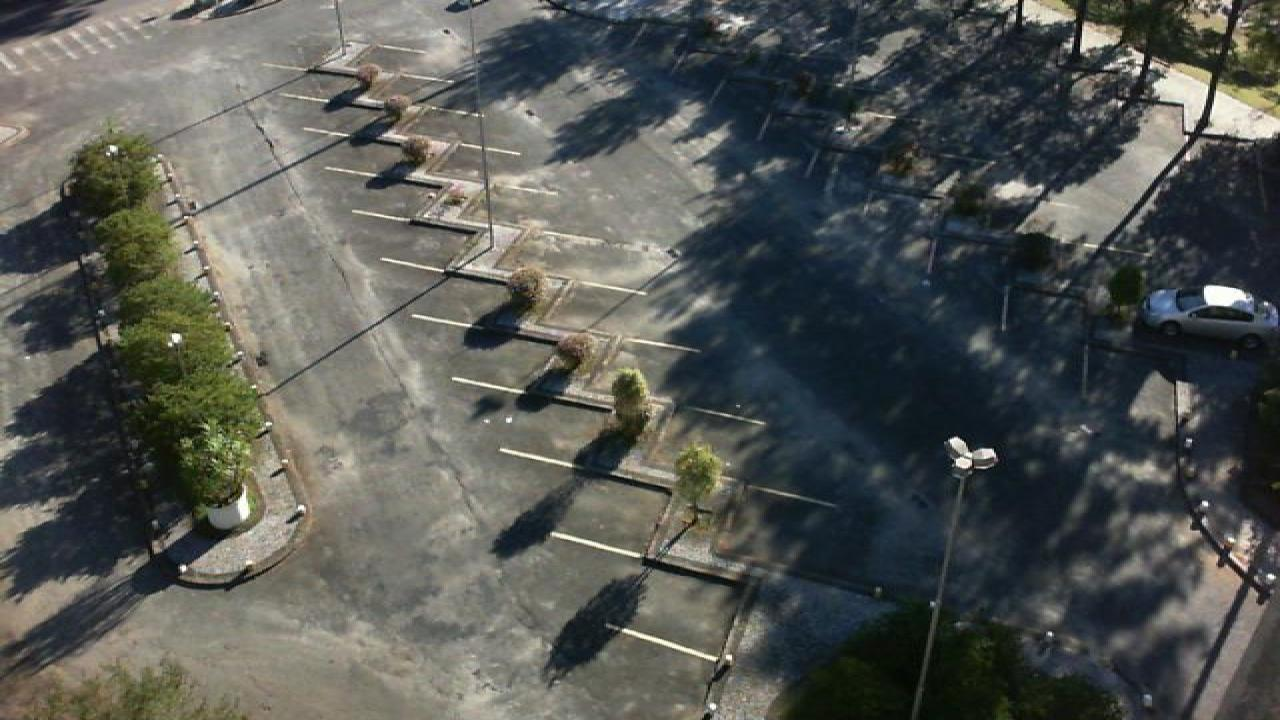Car: (1130, 284, 1280, 356)
